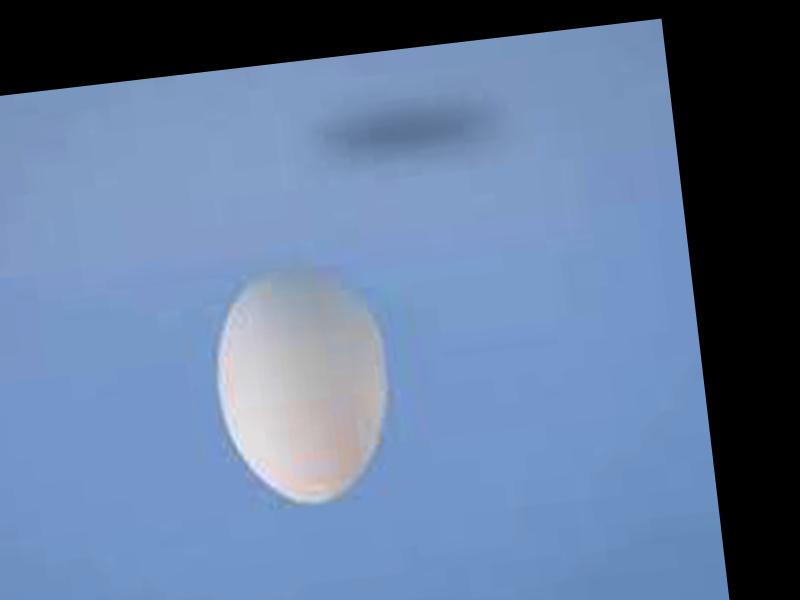Eggs: (204, 256, 403, 513)
